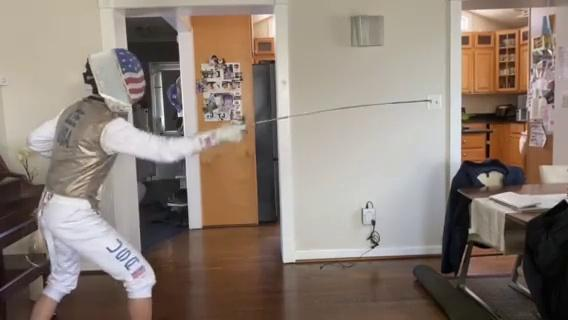blade-guard: (239, 119, 254, 136)
blade-tip: (381, 100, 434, 106)
fencing-blade: (233, 98, 437, 140)
